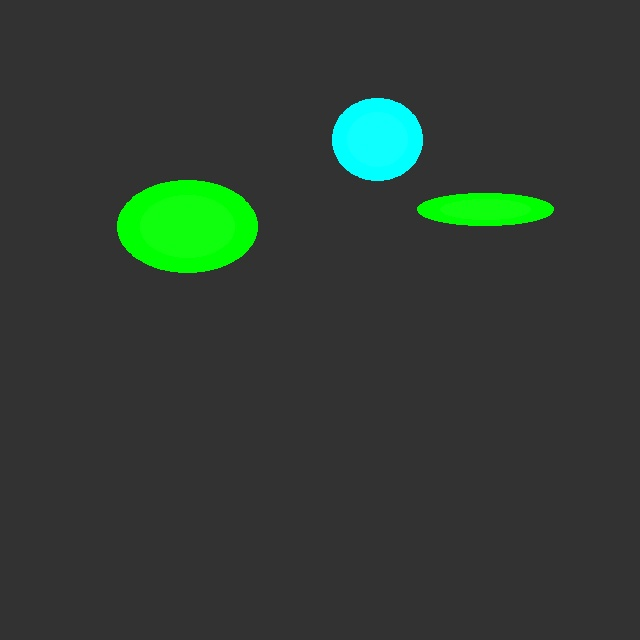fish: (116, 179, 257, 273), (332, 98, 422, 180), (417, 193, 553, 225)
